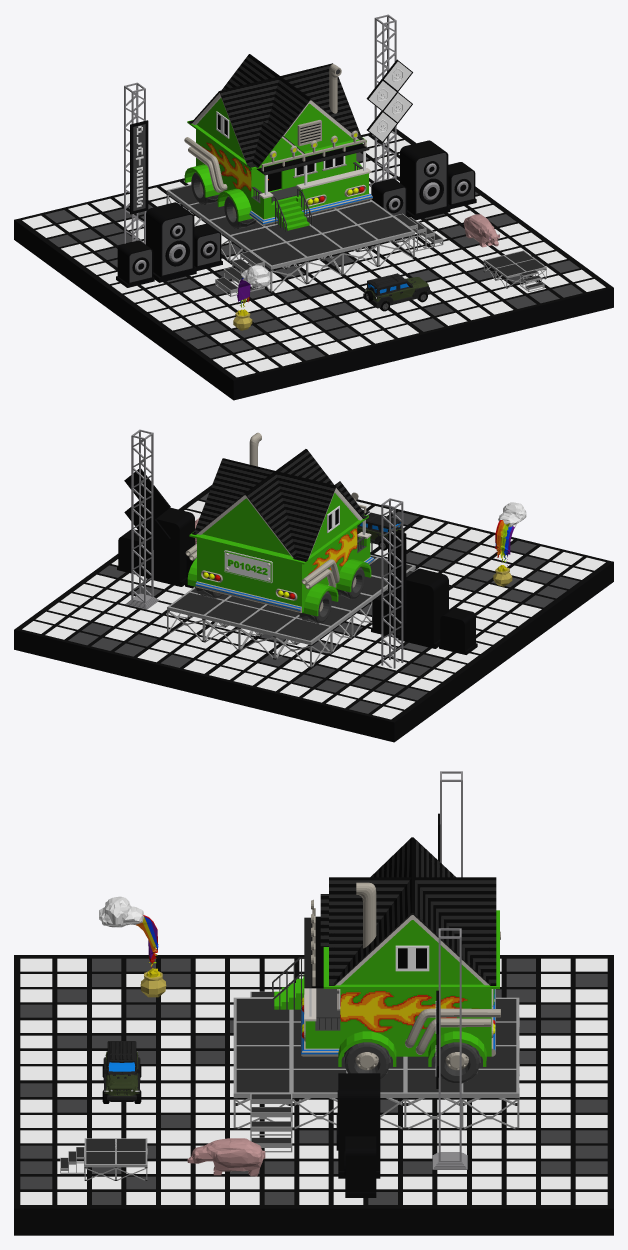
3 views of the same model, one above another, from view 1: azimuth 30°, elevation 25°; view 2: azimuth 150°, elevation 25°; view 3: azimuth 270°, elevation 25° (orthographic). The views are drawn at different scales.
Parts seen in each view (by area): view 1: Cube.008, Cube.1474, VEHICLES_JEEP, OBJRANDOM_RAINBOW, ANIMAL_HIPOPOTAMO; view 2: Cube.008, Cube.1474, OBJRANDOM_RAINBOW, VEHICLES_JEEP; view 3: Cube.008, Cube.1474, VEHICLES_JEEP, OBJRANDOM_RAINBOW, ANIMAL_HIPOPOTAMO.
Part boxes in pixels (x1,y1,x2,y2): Cube.008: (14, 14, 613, 400); Cube.1474: (184, 54, 372, 231); VEHICLES_JEEP: (363, 273, 430, 311); OBJRANDOM_RAINBOW: (233, 265, 270, 330); ANIMAL_HIPOPOTAMO: (463, 214, 499, 247); Cube.008: (14, 429, 613, 742); Cube.1474: (185, 432, 374, 623); OBJRANDOM_RAINBOW: (493, 502, 526, 586); VEHICLES_JEEP: (357, 512, 404, 550); Cube.008: (14, 771, 613, 1235); Cube.1474: (272, 837, 500, 1083); VEHICLES_JEEP: (102, 1041, 141, 1103); OBJRANDOM_RAINBOW: (99, 896, 166, 997); ANIMAL_HIPOPOTAMO: (187, 1138, 265, 1176).
Size of the model in its own units: 4000 by 2124 by 4000.
45 materials, 2 textured.
